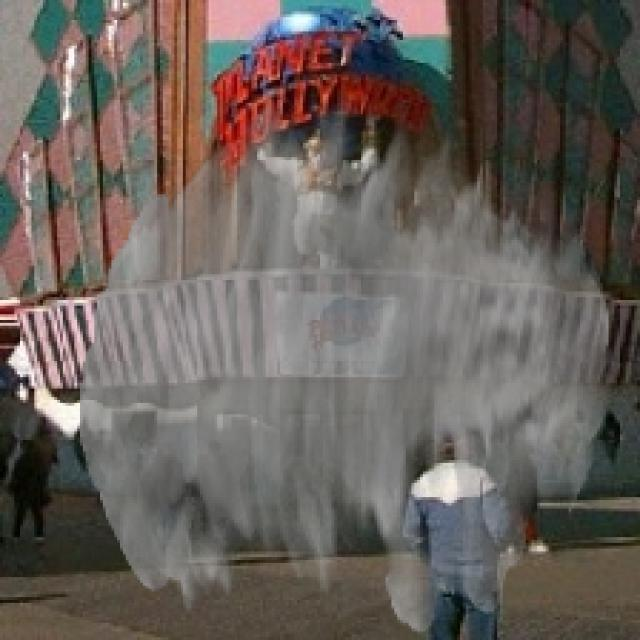Smoke: (79, 95, 612, 634)
